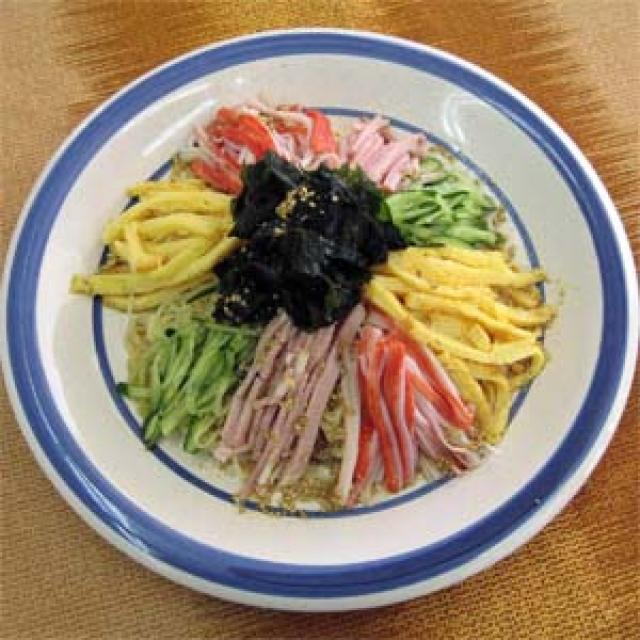面条主食: (0, 28, 640, 614)
